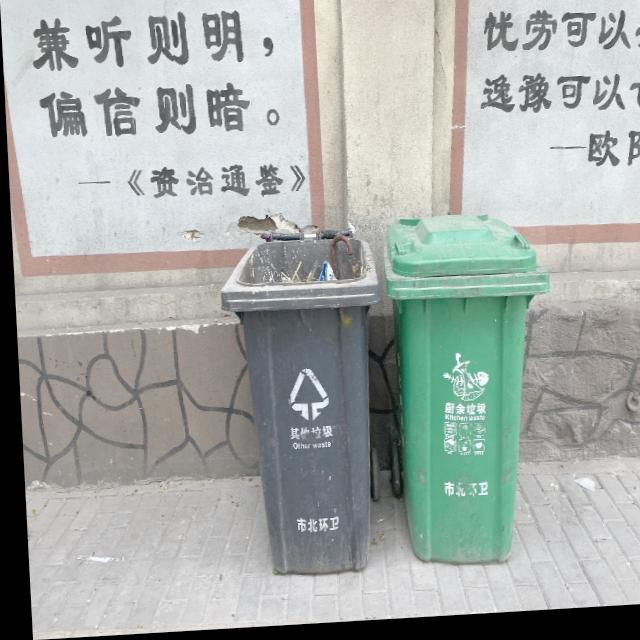garbage_bin: (377, 216, 556, 575), (214, 230, 386, 583)
